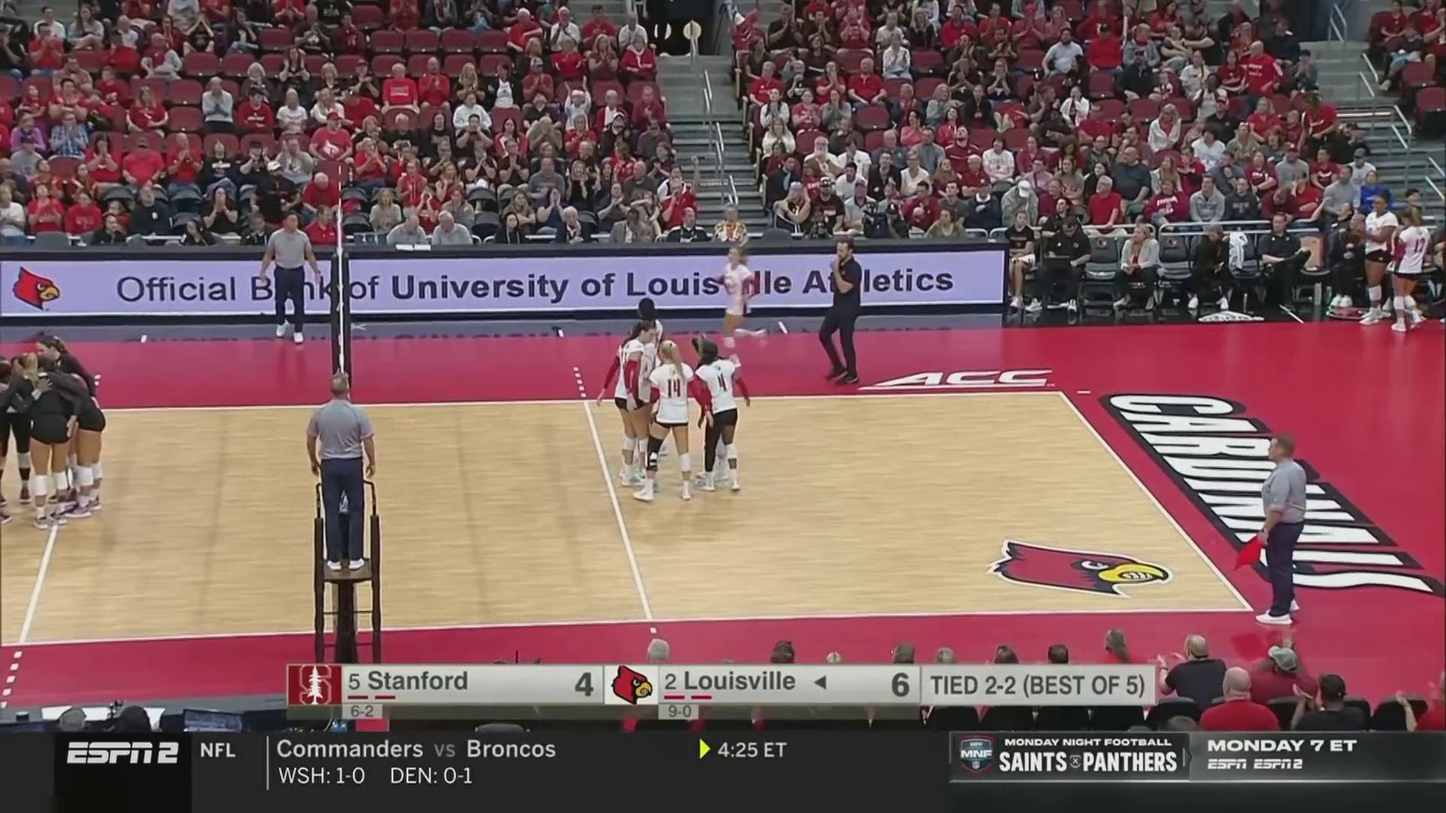player: (11, 354, 72, 531), (32, 336, 92, 502), (641, 339, 697, 504), (714, 244, 789, 366), (55, 355, 108, 520), (625, 292, 674, 466), (696, 345, 742, 496), (615, 323, 657, 487), (694, 334, 737, 480), (0, 353, 26, 523)
refree: (306, 371, 377, 576), (1247, 434, 1307, 631), (259, 208, 316, 348)
